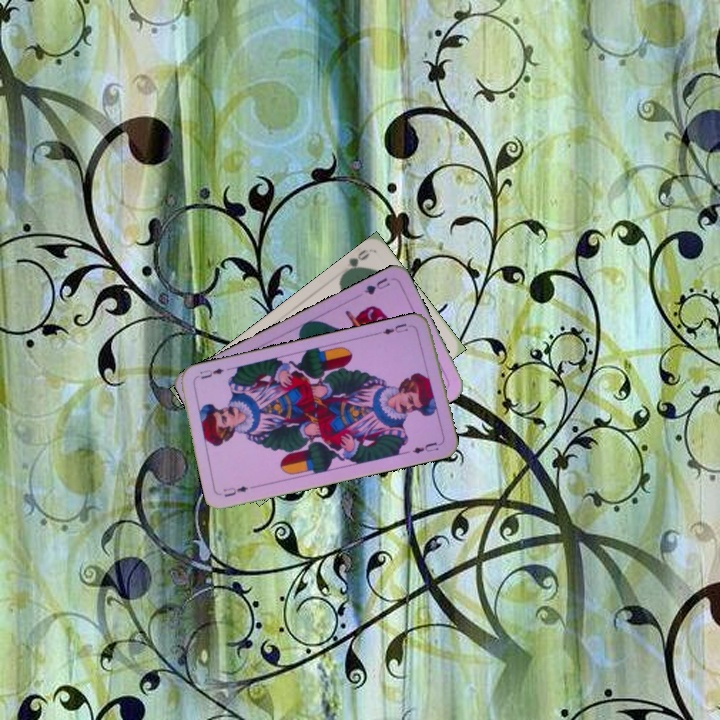EU: (375, 319, 415, 337), (219, 482, 250, 500)
GO: (339, 245, 373, 277)
GU: (360, 273, 393, 297)
